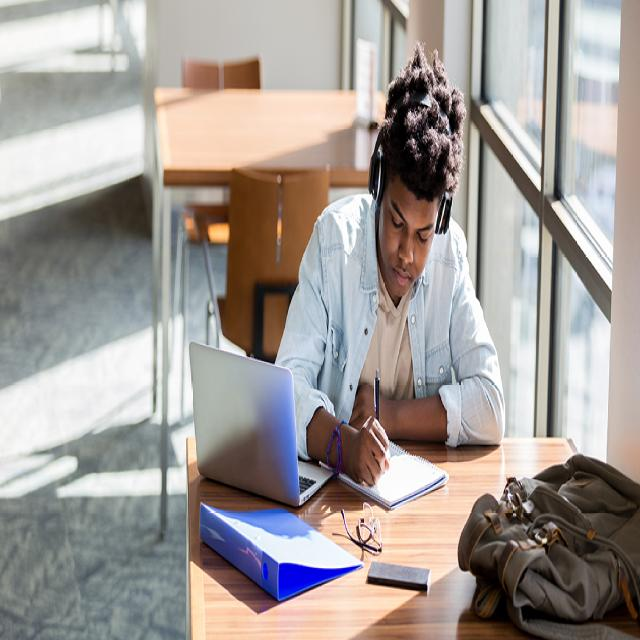studying-person: (274, 47, 507, 521)
